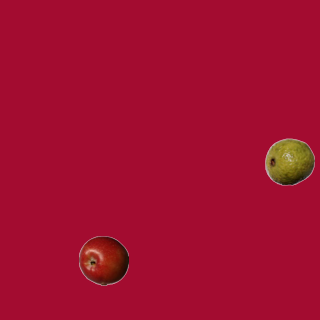Apple Braeburn: (78, 235, 128, 285)
Guava: (264, 136, 314, 186)
